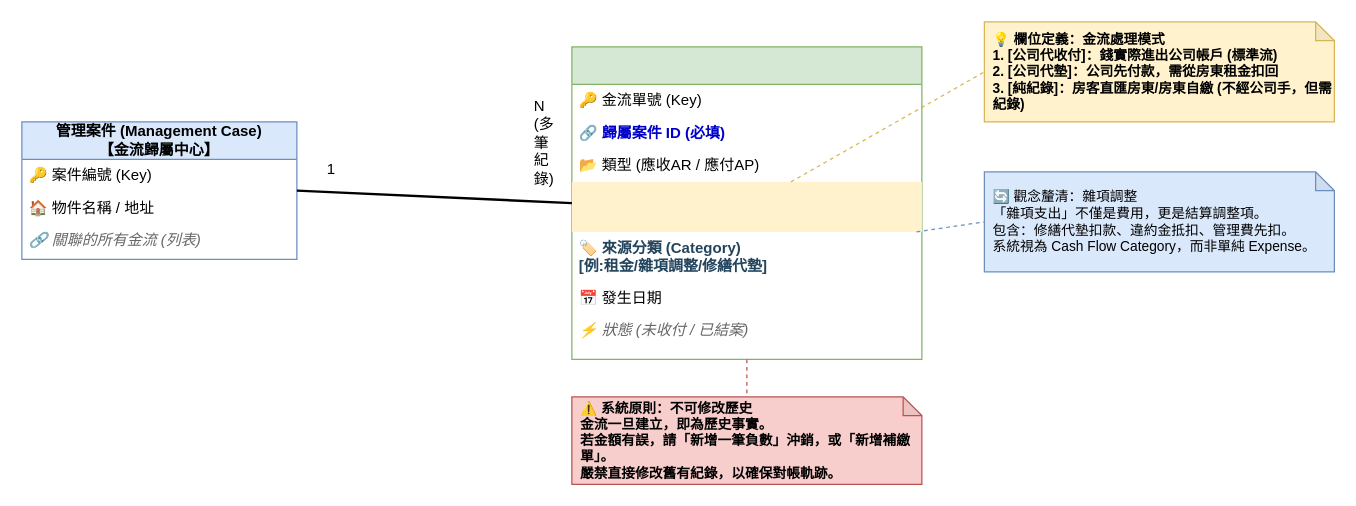
Image size: 1356x506. Some labels were removed from this diagram. The shapes that lost their labels are listed below. From the top down, each one's box as (x1, y1, x2, y2) in pixels, then its label:
(571, 181, 921, 231): 💸 金流處理模式 (Flow Mode) [選項: 公司代收付 / 公司代墊 / 純紀錄]
(571, 46, 922, 359): 金流紀錄 (Cash Flow) 【帳務明細表】
